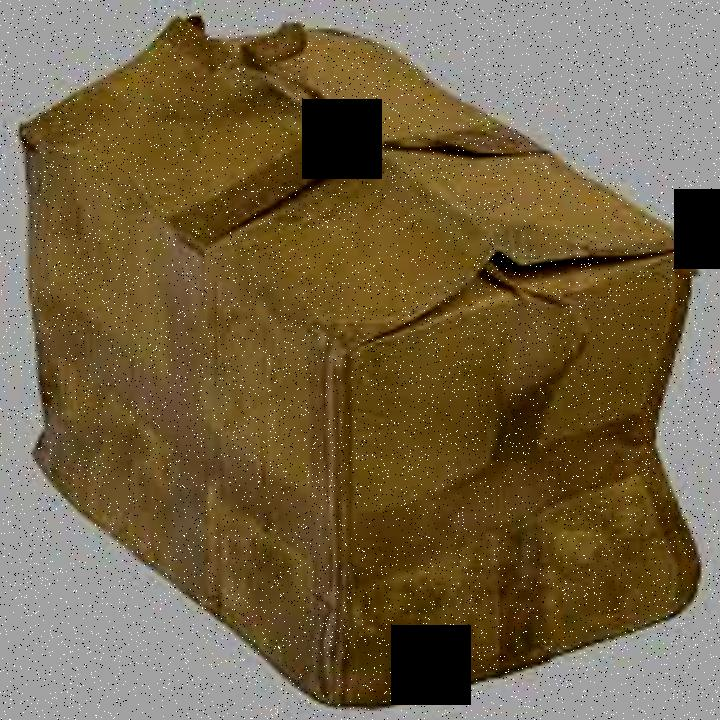box: (18, 20, 709, 711)
